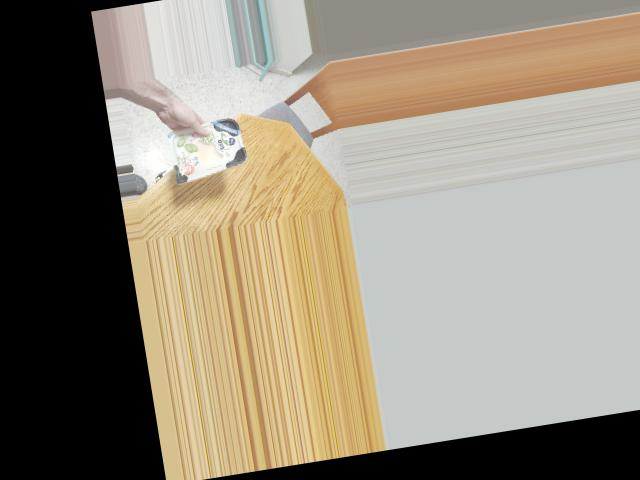cheese: (172, 116, 245, 179)
